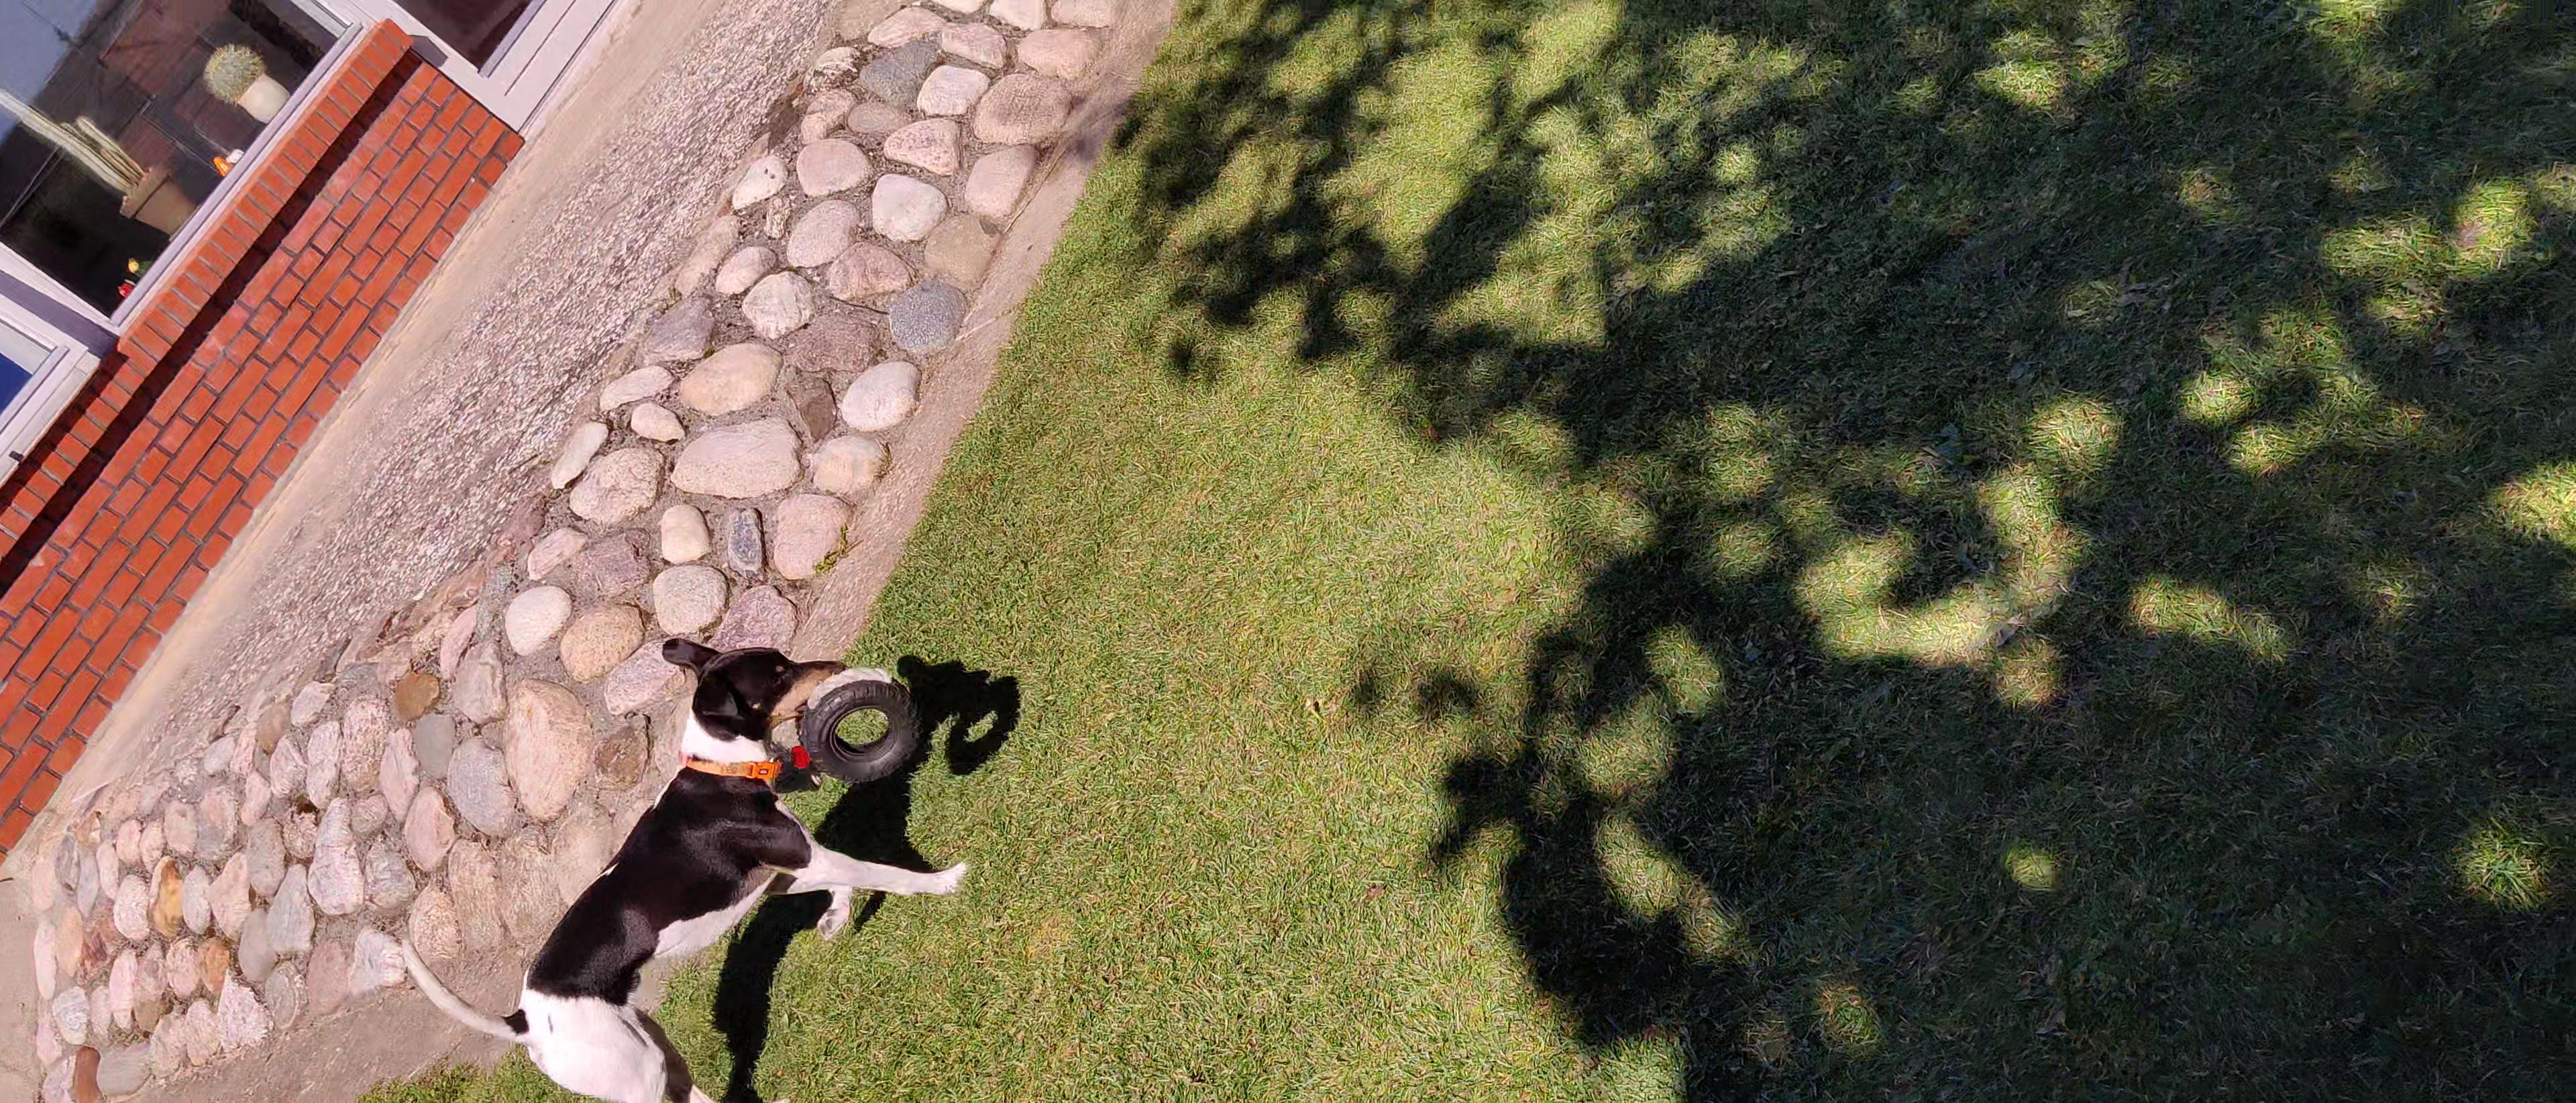Dog: (393, 631, 979, 1103)
